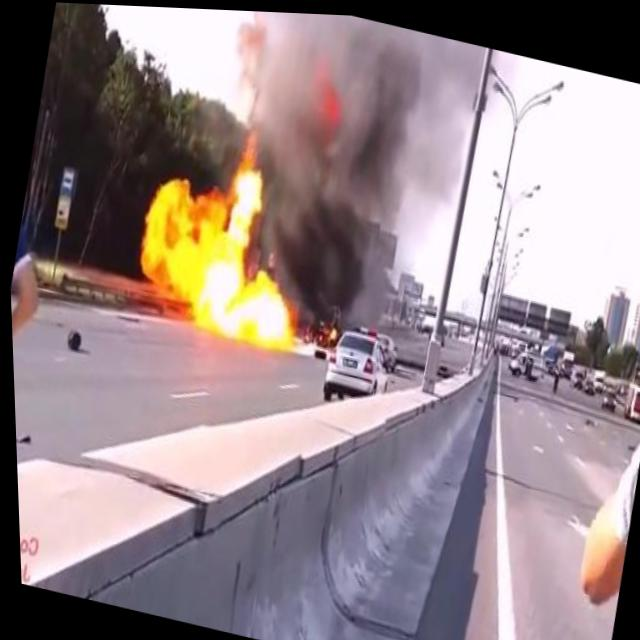fire: (117, 128, 331, 355), (309, 65, 349, 133), (299, 315, 340, 354)
